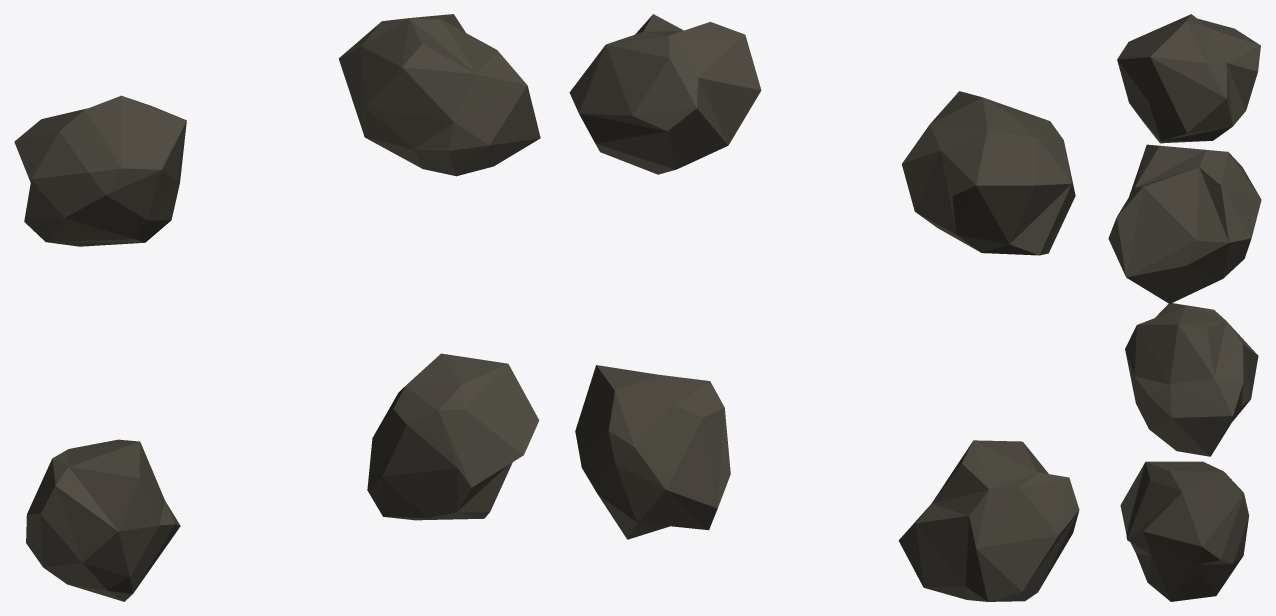
The model's file is FourPiece.FBX.
3 views of the same model, side by side, from view 1: azimuth 30°, elevation 25°; view 2: azimuth 150°, elevation 25°; view 3: azimuth 270°, elevation 25° (orthographic). The views are drawn at different scales.
Parts seen in each view (by area): view 1: FourPiece; view 2: FourPiece; view 3: FourPiece.
Boxes of the visible parts, bbox=[...] form: FourPiece: bbox=[14, 14, 540, 601]; FourPiece: bbox=[569, 14, 1079, 601]; FourPiece: bbox=[1108, 14, 1261, 601].
Bounding box in the file's own units: 112 × 112 × 35.69.
